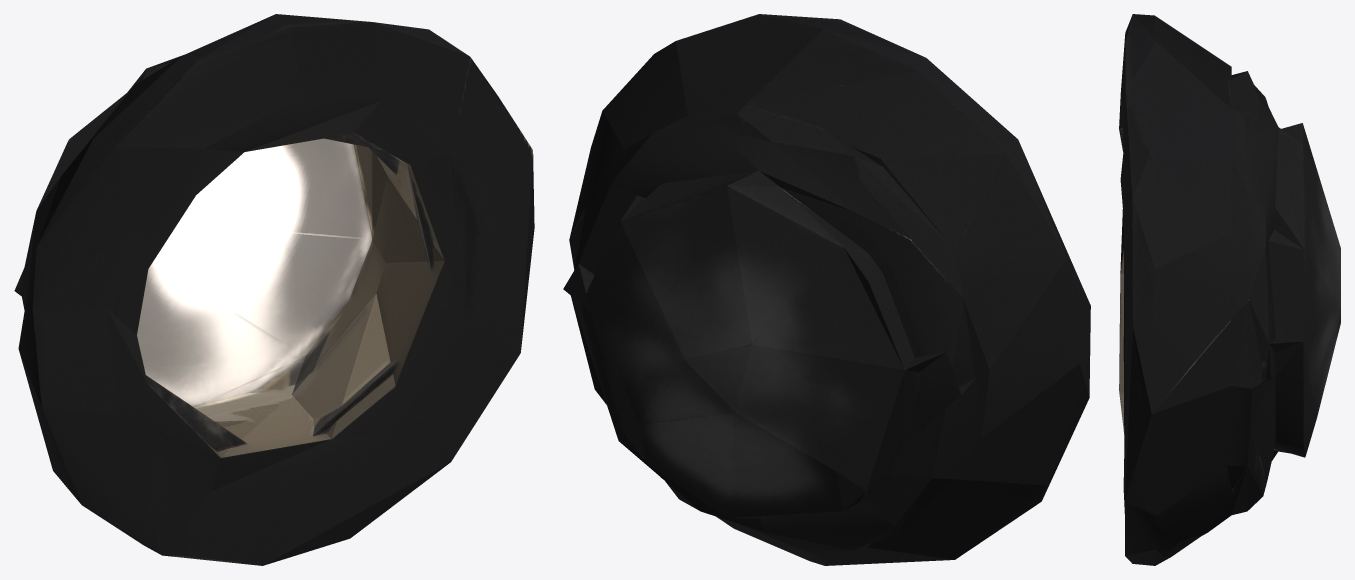
The model's file is canlight_ai.glb.
The picture shows the model from 3 angles, left to right: view 1: azimuth 30°, elevation 25°; view 2: azimuth 150°, elevation 25°; view 3: azimuth 270°, elevation 25°; orthographic projection. The views are drawn at different scales.
Bounding box in the file's own units: 1.89 × 1.89 × 0.758.
1 material, 1 textured.
